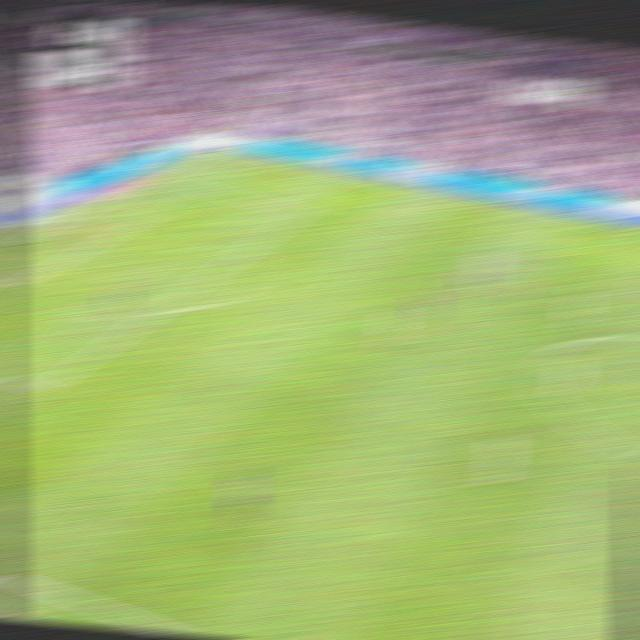bigarea_bottom_inner: (29, 376, 56, 400)
bigarea_top_inner: (291, 205, 313, 217)
bigarea_top_outter: (149, 170, 174, 184)
bottom_arc_area_intersection: (146, 300, 171, 319)
corner: (209, 145, 233, 155)
smallarea_top_inner: (134, 213, 155, 222)
smallarea_top_outter: (85, 200, 109, 210)
top_arc_area_intersection: (234, 241, 258, 257)
